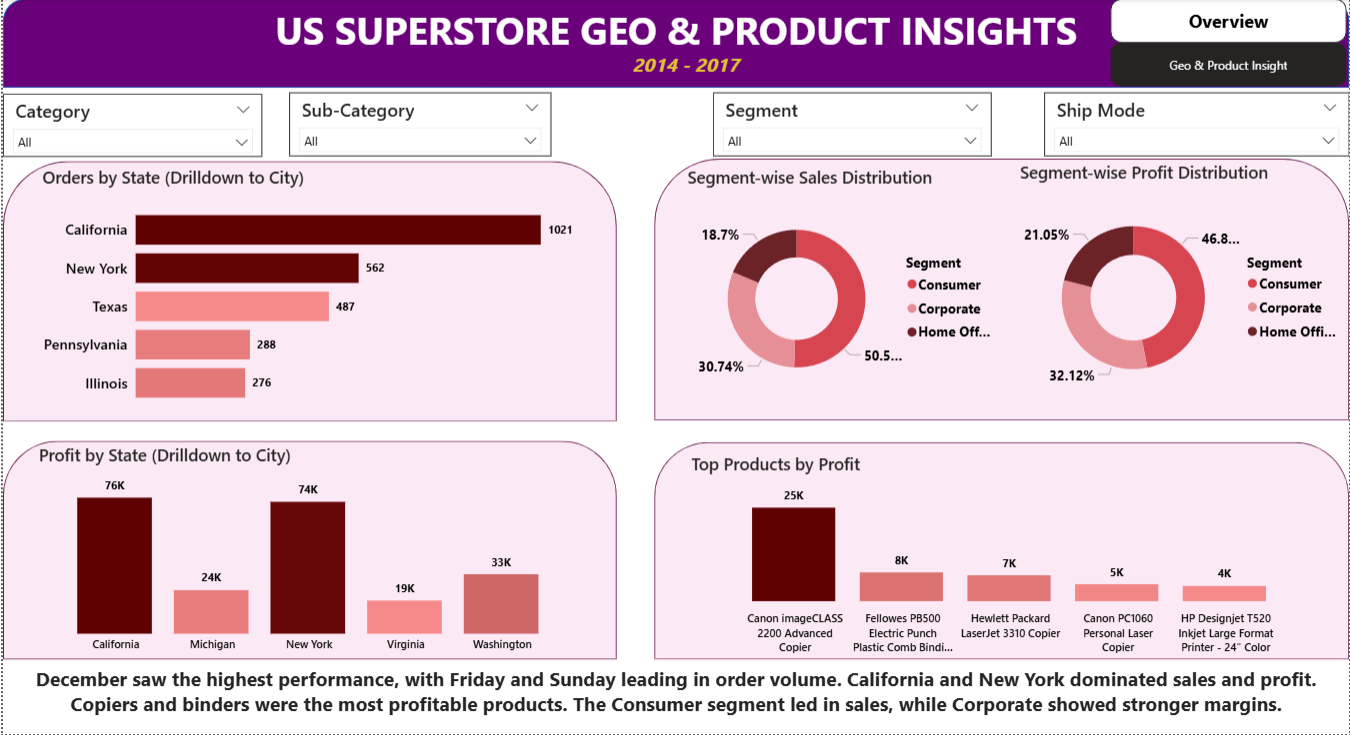

This screenshot's page, from the dashboard's own definition file:
{"tool":"powerbi","page":{"name":"Geo & Product Insight","canvas":[1500,820],"ordinal":1},"visuals":[{"type":"shape","box":[0,180.7,683.7,290.7],"z":0},{"type":"shape","box":[0,492.5,683.7,244],"z":1000},{"type":"shape","box":[725.9,494.4,774.1,242.5],"z":2000},{"type":"shape","box":[725.9,177.7,774.1,292.2],"z":3000},{"type":"slicer","fields":{"Values":["Orders.Ship Mode"]},"box":[1159.9,103.8,339.9,71.4],"z":4000},{"type":"clusteredBarChart","title":"Orders by State (Drilldown to City)","fields":{"Category":["Orders.State","Orders.City"],"Y":["Orders.Total Orders"]},"box":[39.2,186.7,603.9,281.6],"z":5000},{"type":"clusteredColumnChart","title":"Profit by State (Drilldown to City)","fields":{"Y":["Sum(Orders.Profit)"],"Category":["Orders.State","Orders.City"]},"box":[34.6,495.5,613,242.5],"z":6000},{"type":"clusteredColumnChart","title":"Top Products by Profit","fields":{"Category":["Orders.Product Name"],"Y":["Sum(Orders.Profit)"]},"box":[762,505,701.8,233.4],"z":7000},{"type":"slicer","fields":{"Values":["Orders.Category"]},"box":[0,105.4,289.2,70.8],"z":8000},{"type":"slicer","fields":{"Values":["Orders.Sub-Category"]},"box":[319.2,105.1,291.9,71.4],"z":9000},{"type":"slicer","fields":{"Values":["Orders.Segment"]},"box":[791.5,103.8,310.1,71.4],"z":10000},{"type":"donutChart","title":"Segment-wise Sales Distribution","fields":{"Category":["Orders.Segment"],"Y":["Sum(Orders.Sales)"]},"box":[757.5,186.7,358.4,271.1],"z":11000},{"type":"donutChart","title":"Segment-wise Profit Distribution","fields":{"Y":["Sum(Orders.Profit)"],"Category":["Orders.Segment"]},"box":[1128,181.2,372,280.1],"z":12000},{"type":"shape","box":[0,0,1500,99.4],"z":13000},{"type":"textbox","box":[0,0,1500,79.8],"z":14000},{"type":"textbox","box":[599.4,52.7,323.8,48.2],"z":15000},{"type":"pageNavigator","box":[1233.4,48.2,263.6,49.7],"z":16000},{"type":"pageNavigator","box":[1233.4,0,263.6,49.7],"z":17000},{"type":"textbox","box":[0,738,1500,81.3],"z":18000}]}

Visuals, with their boxes in screenshot pixels (x1, y1, x2, y2), scaled from the page's 1500x820 canvas onto the 1350x735 screenshot:
shape: detection(0, 162, 615, 423)
shape: detection(0, 441, 615, 660)
shape: detection(653, 443, 1349, 661)
shape: detection(653, 159, 1349, 421)
slicer - Orders.Ship Mode: detection(1044, 93, 1349, 157)
"Orders by State (Drilldown to City)" clusteredBarChart: detection(35, 167, 579, 420)
"Profit by State (Drilldown to City)" clusteredColumnChart: detection(31, 444, 583, 662)
"Top Products by Profit" clusteredColumnChart: detection(686, 453, 1317, 662)
slicer - Orders.Category: detection(0, 94, 260, 158)
slicer - Orders.Sub-Category: detection(287, 94, 550, 158)
slicer - Orders.Segment: detection(712, 93, 991, 157)
"Segment-wise Sales Distribution" donutChart: detection(682, 167, 1004, 410)
"Segment-wise Profit Distribution" donutChart: detection(1015, 162, 1349, 413)
shape: detection(0, 0, 1349, 89)
textbox: detection(0, 0, 1349, 72)
textbox: detection(539, 47, 831, 90)
pageNavigator: detection(1110, 43, 1347, 88)
pageNavigator: detection(1110, 0, 1347, 45)
textbox: detection(0, 662, 1349, 734)
